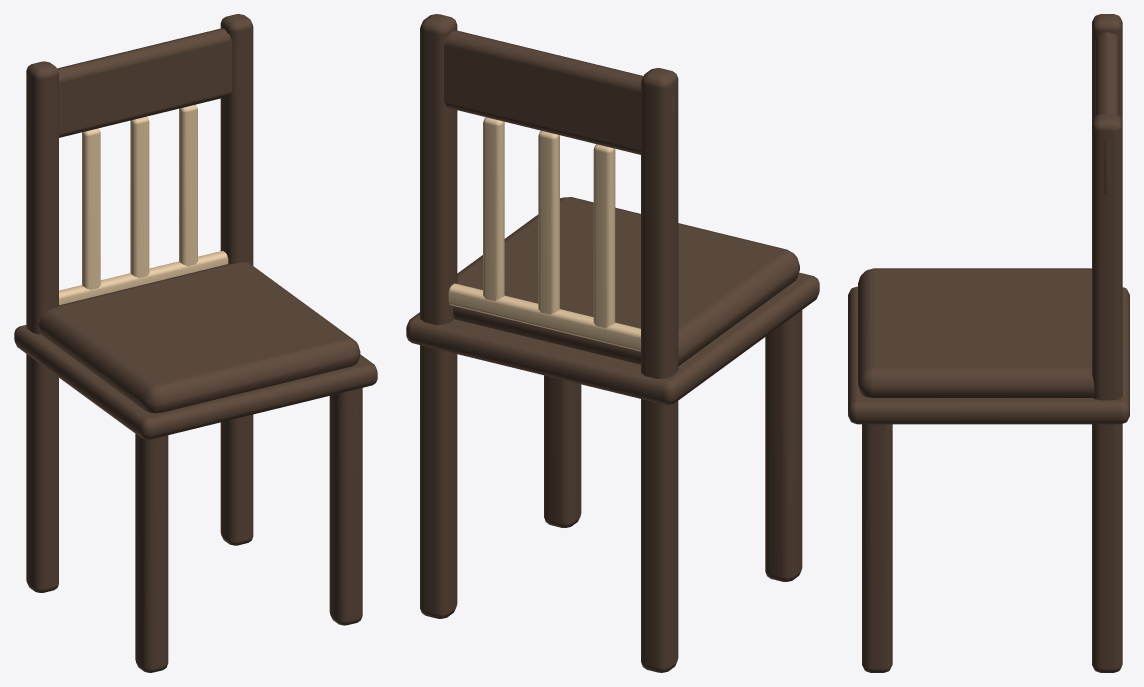
The model's file is dchair.glb.
3 renders of one model, left to right at view 1: azimuth 30°, elevation 25°; view 2: azimuth 150°, elevation 25°; view 3: azimuth 270°, elevation 25°, orthographic. The views are drawn at different scales.
Parts seen in each view (by area): view 1: dchair; view 2: dchair; view 3: dchair.
Part boxes in pixels (box(x1,y1,x2,y2)): dchair: box(14, 14, 377, 672); dchair: box(406, 14, 819, 672); dchair: box(848, 14, 1129, 672).
Size of the model in its own units: 0.4387 by 0.9287 by 0.4287.
